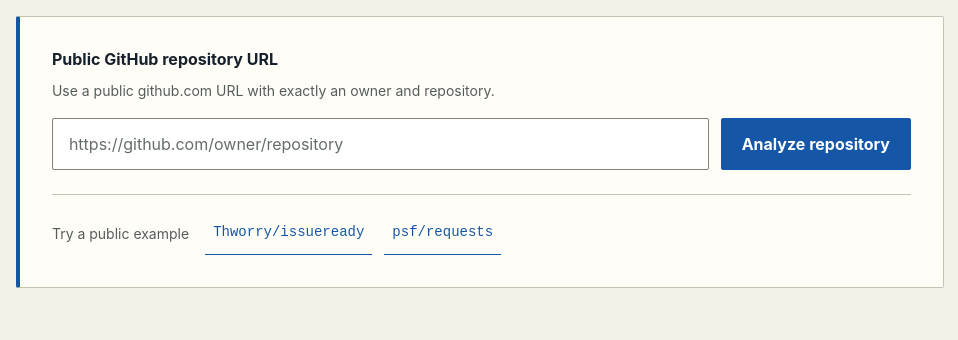
Test case: RepositoryForm › rejects invalid input locally, links the error, and makes no request
Type "https://example.com/not-github/repo" into the field labelled "Public GitHub repository URL" at (380, 144), box x1=52 y1=118 x2=709 y2=170
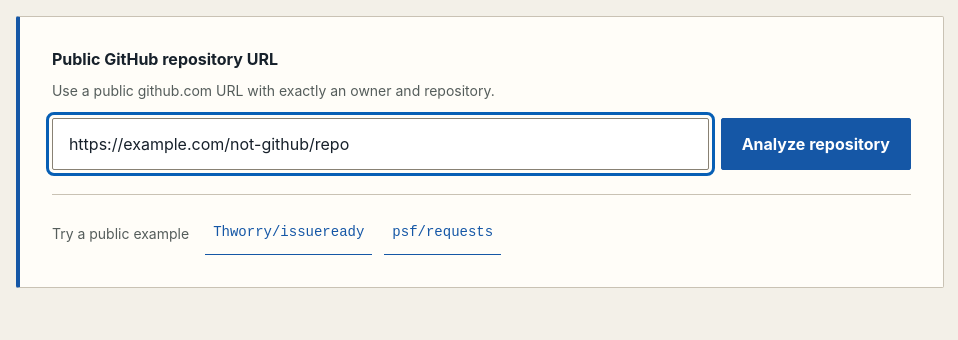
Click the button "Analyze repository" at (816, 144), box x1=721 y1=118 x2=911 y2=170
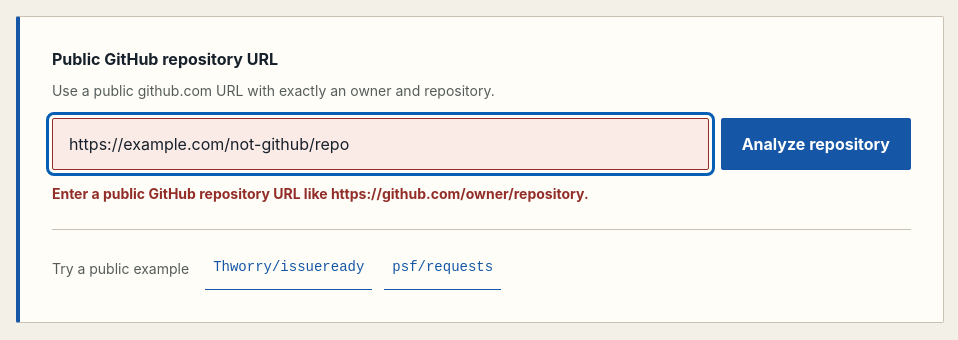
Expected: the message shows "github.com/owner/repository", x1=52 y1=185 x2=589 y2=202
